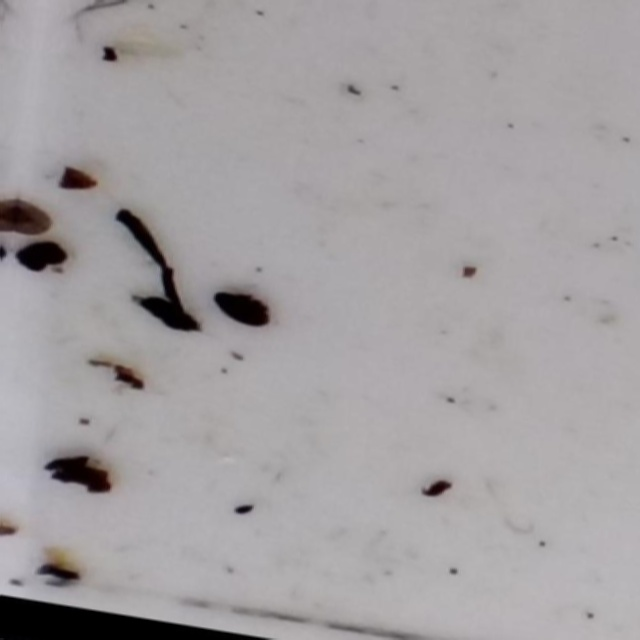varroa: (203, 290, 278, 336), (8, 238, 70, 284), (137, 298, 201, 339)
